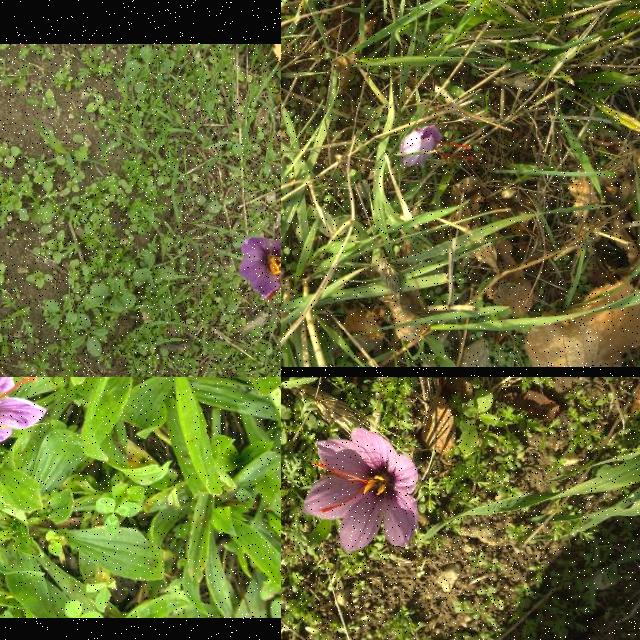flower: (303, 428, 419, 554), (0, 377, 47, 453), (237, 237, 281, 311), (400, 124, 474, 168)
